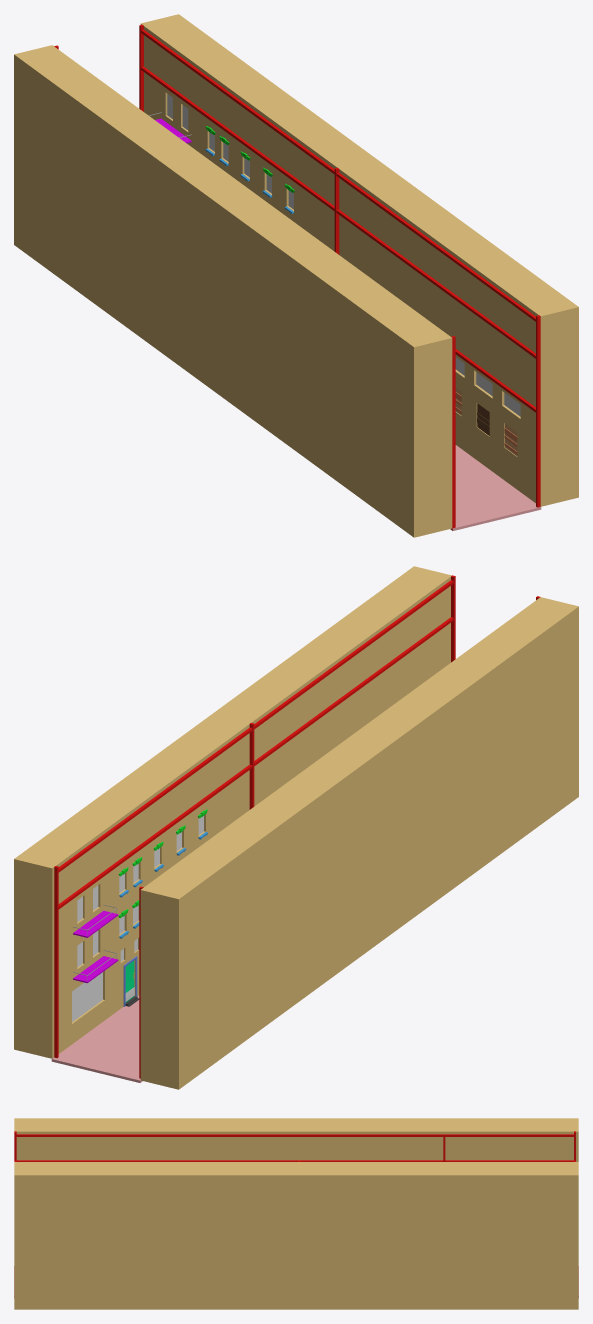
The model's file is Alleyway_v2.fbx.
3 renders of one model, top to bottom at view 1: azimuth 30°, elevation 25°; view 2: azimuth 150°, elevation 25°; view 3: azimuth 270°, elevation 25°, orthographic. The views are drawn at different scales.
Parts seen in each view (by area): view 1: Alleyway; view 2: Alleyway; view 3: Alleyway.
Boxes of the visible parts, bbox=[...] form: Alleyway: bbox=[14, 14, 578, 537]; Alleyway: bbox=[14, 566, 578, 1089]; Alleyway: bbox=[14, 1118, 578, 1309].
Size of the model in its own units: 860 by 966 by 3621.
